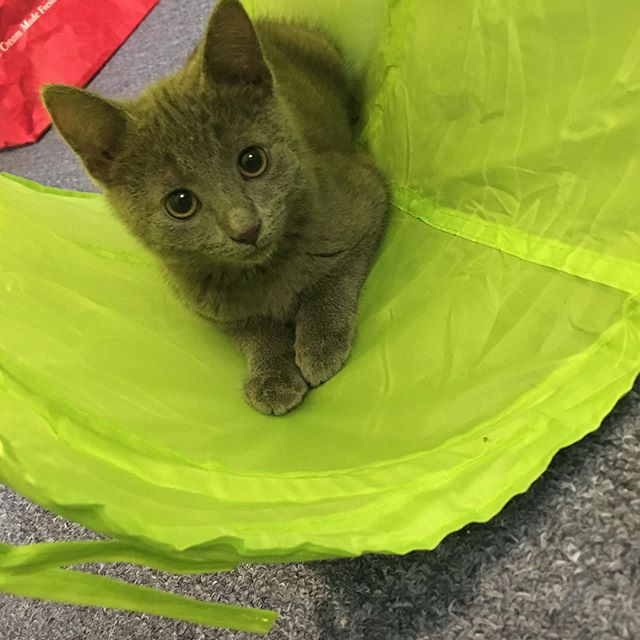cat: (23, 3, 301, 281)
